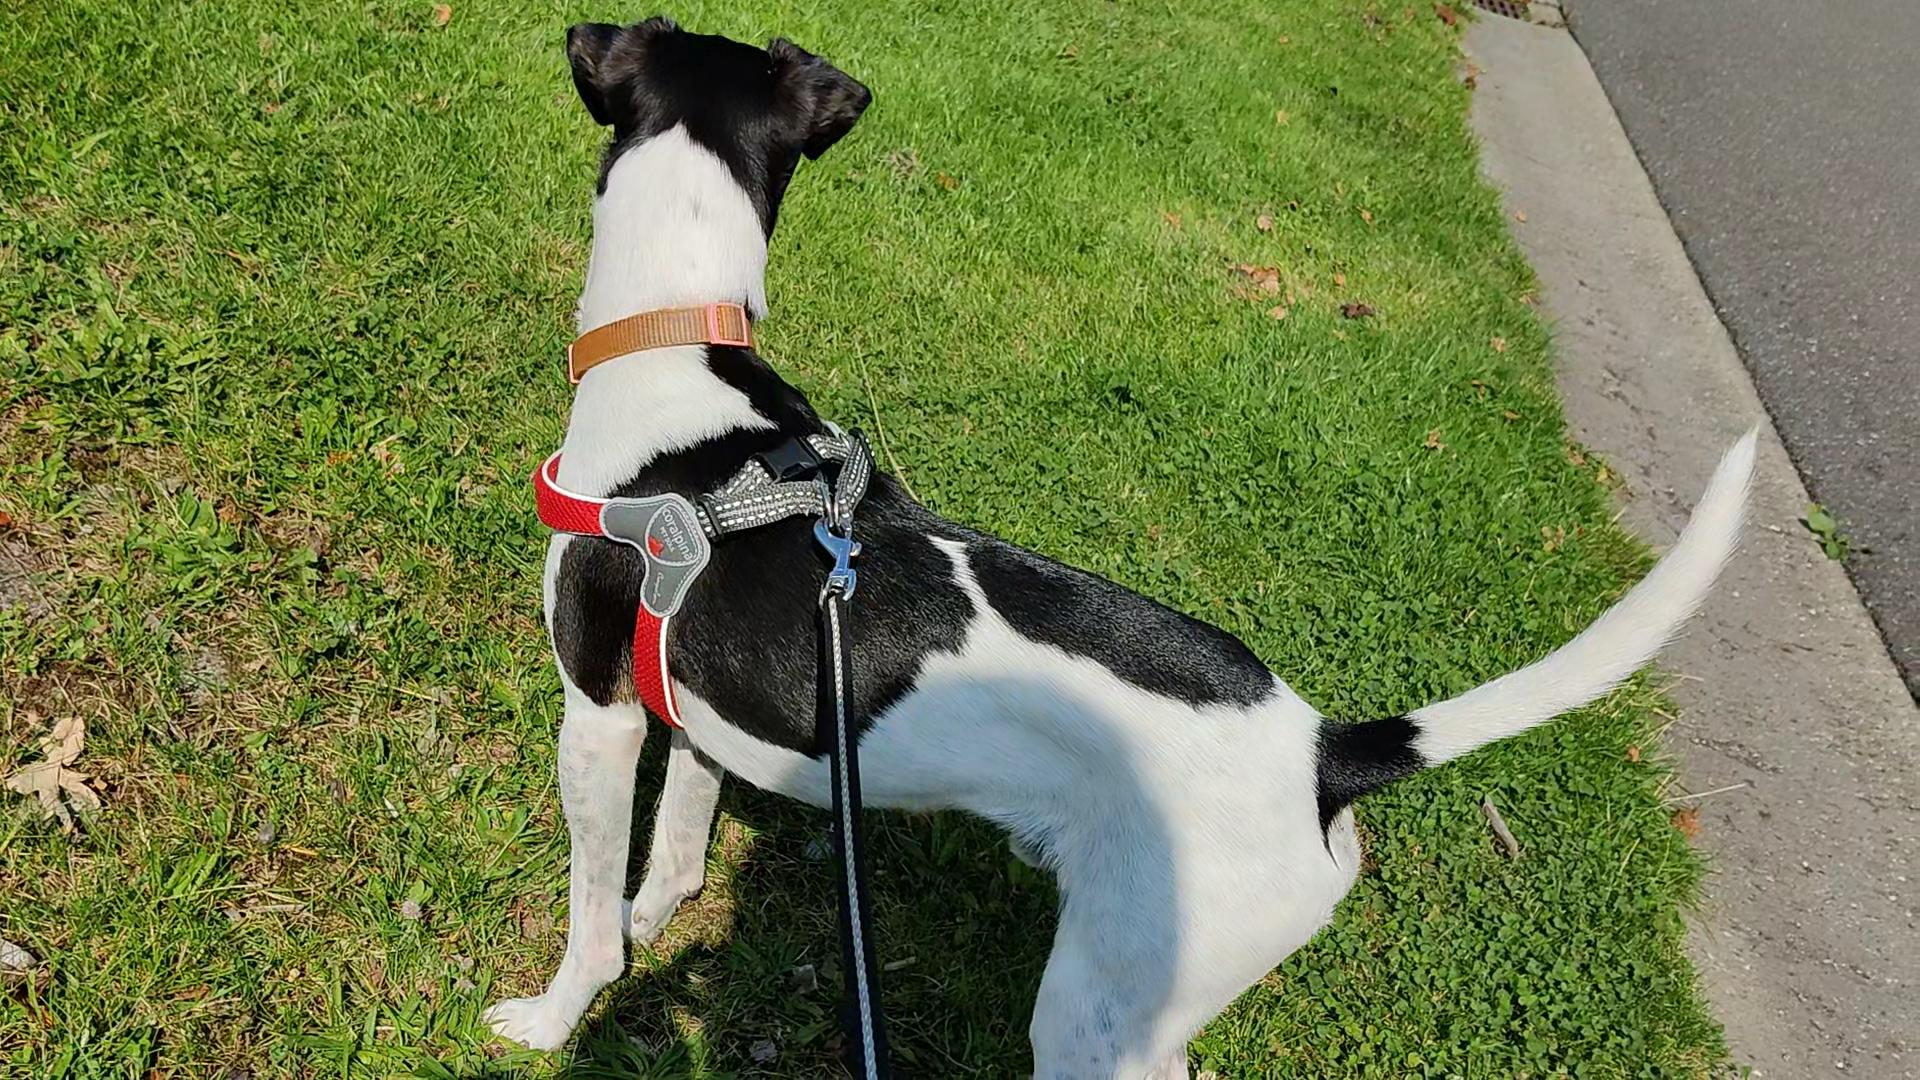Dog: (473, 18, 1762, 1079)
